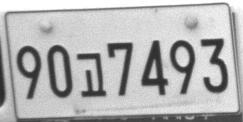0: (46, 43, 73, 98)
3: (200, 37, 228, 93)
4: (140, 40, 168, 95)
7: (106, 41, 134, 97)
9: (15, 44, 42, 99), (169, 39, 195, 94)
고: (76, 52, 106, 97)
